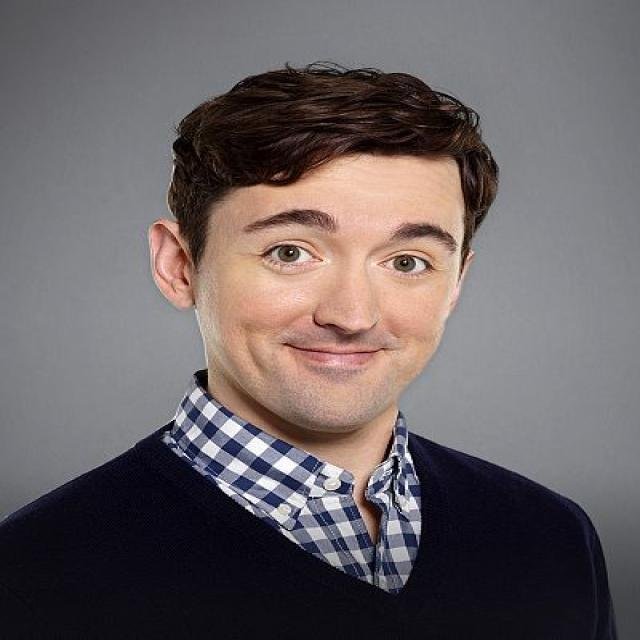mobile_phonerotation: (2, 59, 619, 637)
